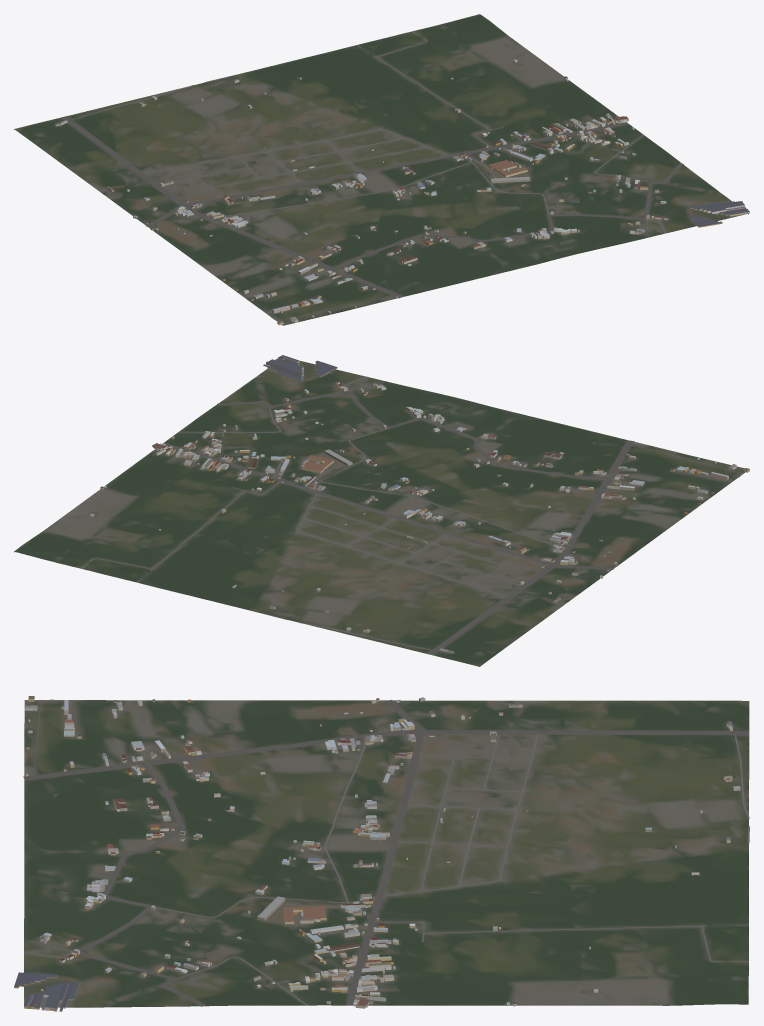
3 renders of one model, top to bottom at view 1: azimuth 30°, elevation 25°; view 2: azimuth 150°, elevation 25°; view 3: azimuth 270°, elevation 25°, orthographic. The views are drawn at different scales.
Visible parts, largest first — view 1: ground, buildings, roads; view 2: ground, buildings, roads; view 3: ground, buildings, roads.
Part boxes in pixels (x1,y1,x2,y2): ground: (14, 14, 748, 325); buildings: (54, 59, 749, 325); roads: (61, 31, 683, 321); ground: (14, 361, 745, 666); buildings: (90, 355, 749, 653); roads: (81, 377, 743, 655); ground: (24, 700, 749, 1007); buildings: (14, 696, 740, 1011); roads: (23, 699, 749, 1006).
Size of the model in its own units: 1423 by 22.11 by 1422.
